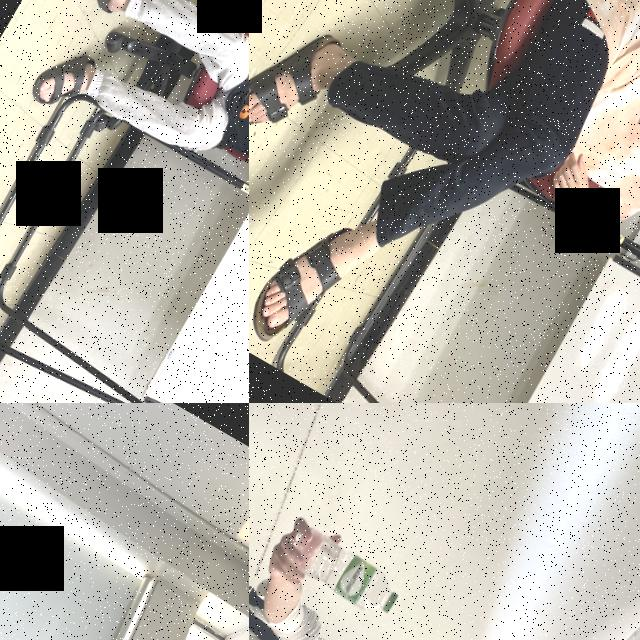bottle: (278, 522, 406, 624)
